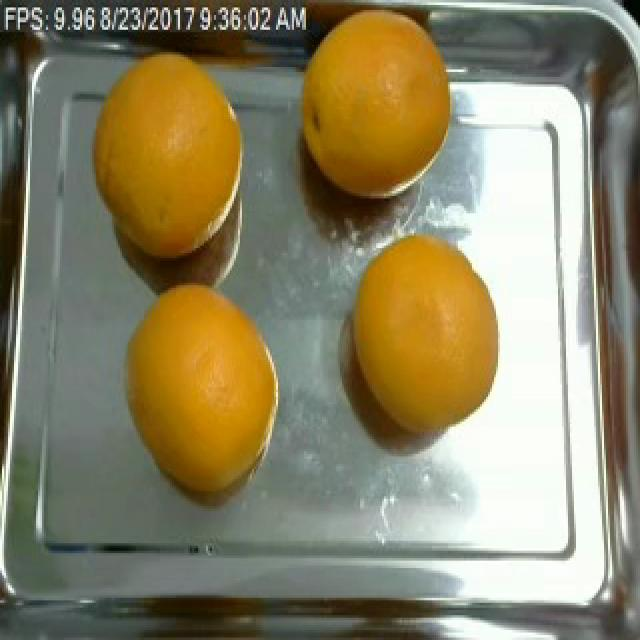Fruit: (74, 30, 268, 258), (332, 208, 518, 432), (276, 0, 462, 206)
